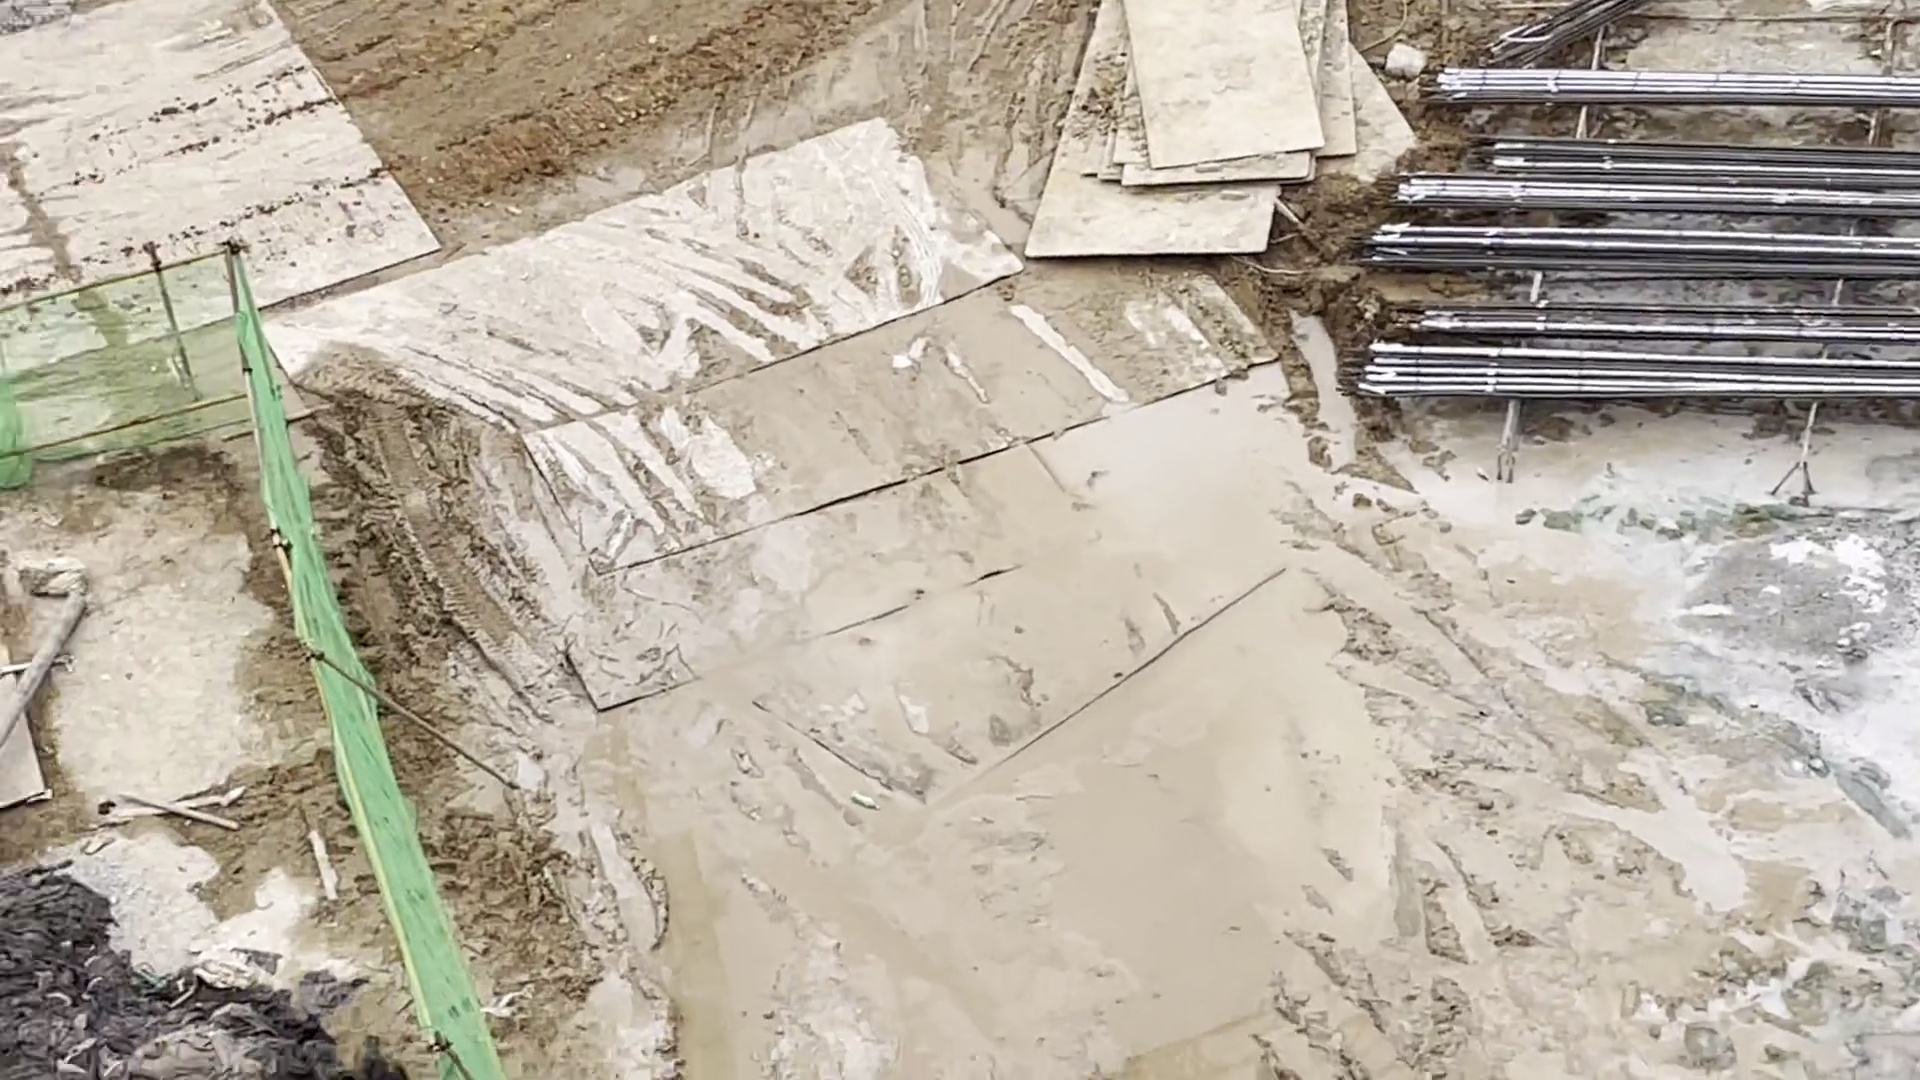rebar: (1366, 67, 1920, 400)
